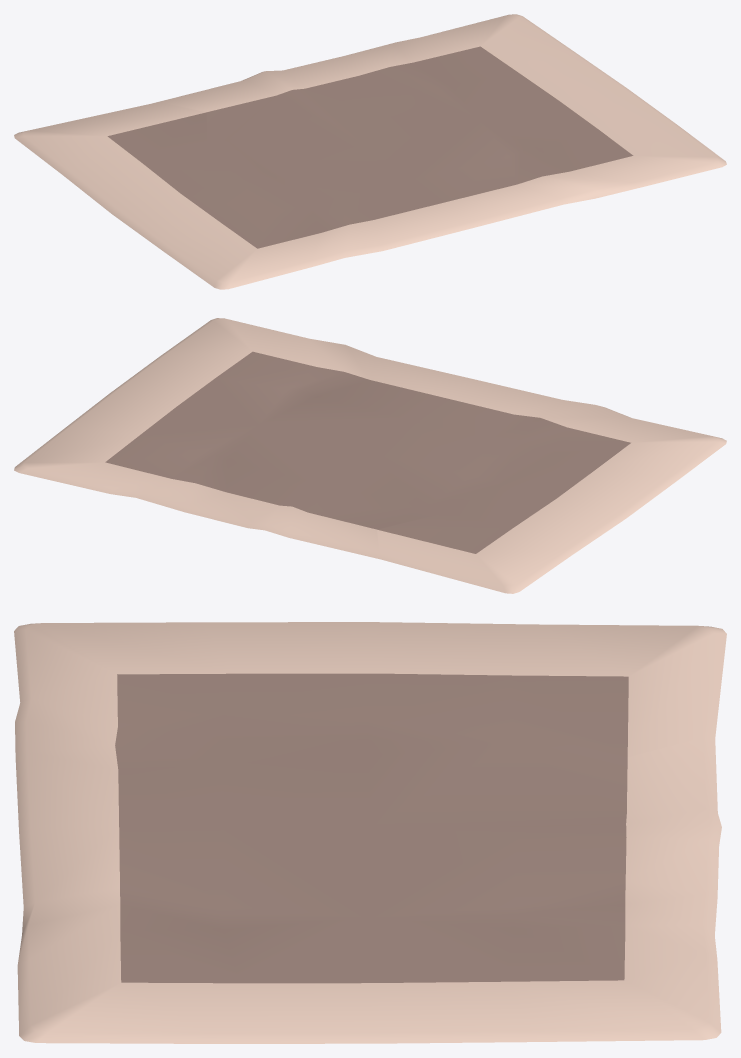
Rendered from carpet_013.fbx.
3 views of the same model, one above another, from view 1: azimuth 30°, elevation 25°; view 2: azimuth 150°, elevation 25°; view 3: azimuth 270°, elevation 25° (orthographic). The views are drawn at different scales.
Parts seen in each view (by area): view 1: carpet_013; view 2: carpet_013; view 3: carpet_013.
Boxes of the visible parts, x1,y1,x2,y2 form: carpet_013: [14, 14, 726, 289]; carpet_013: [14, 318, 726, 593]; carpet_013: [14, 622, 726, 1043].
Size of the model in its own units: 146 by 104 by 2.
